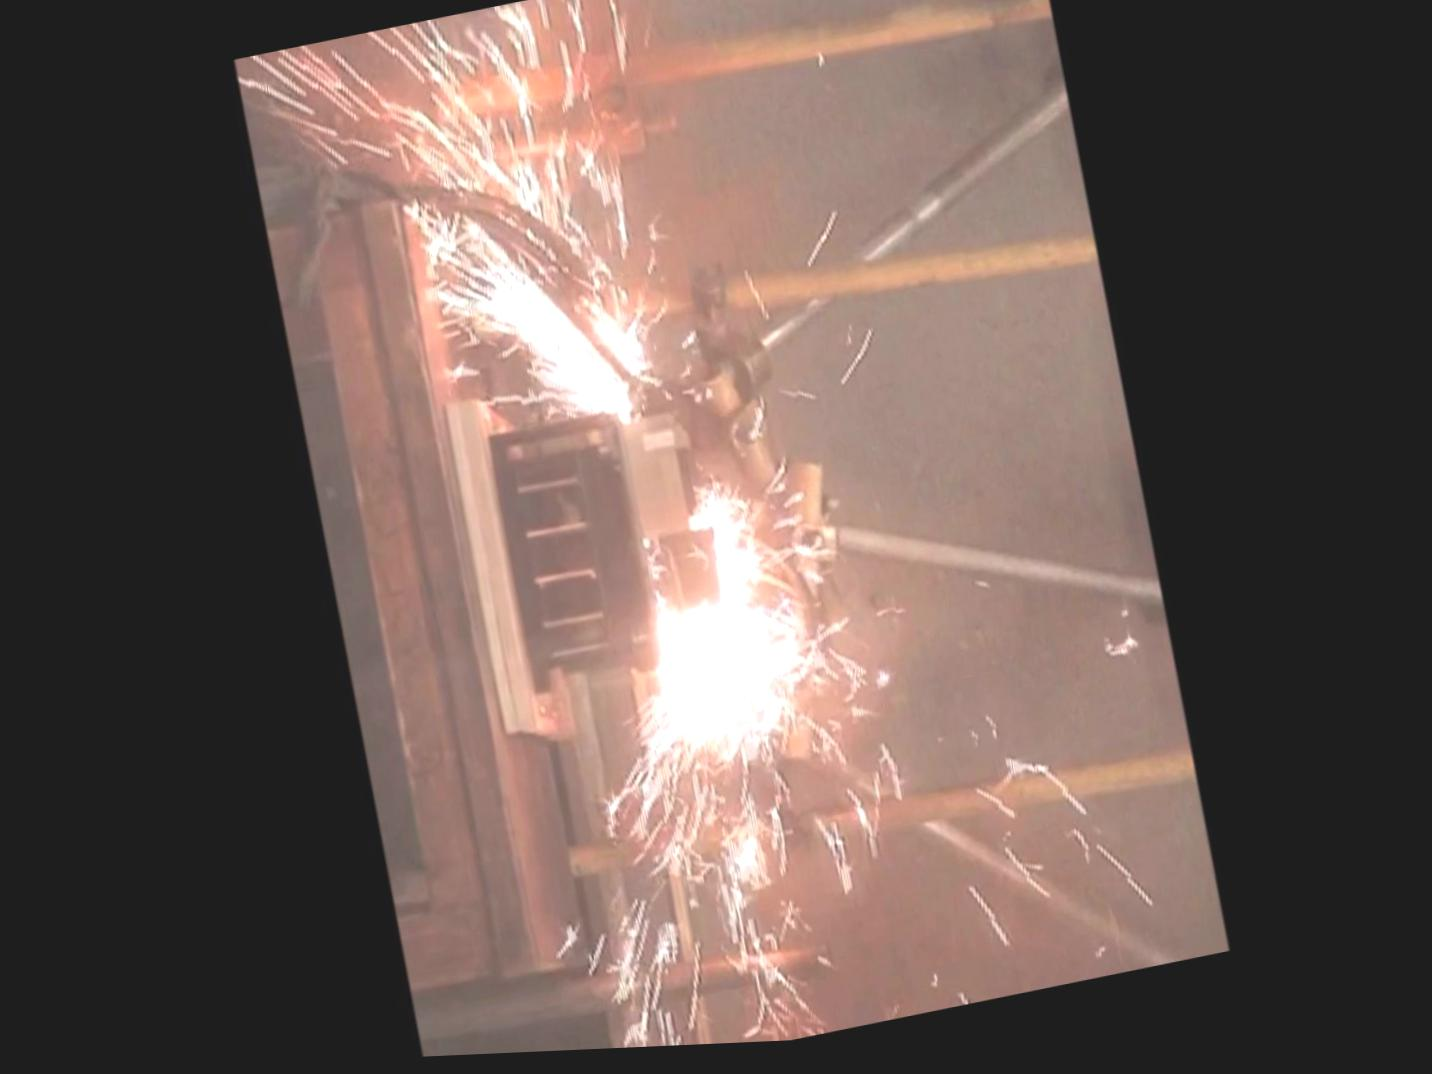fire: (286, 23, 943, 989)
